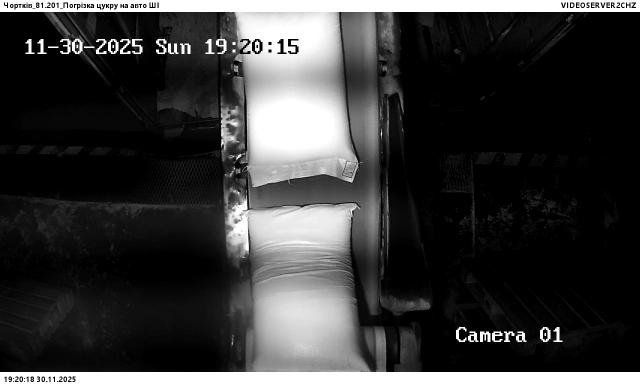bag: (243, 203, 374, 373), (233, 13, 359, 186)
